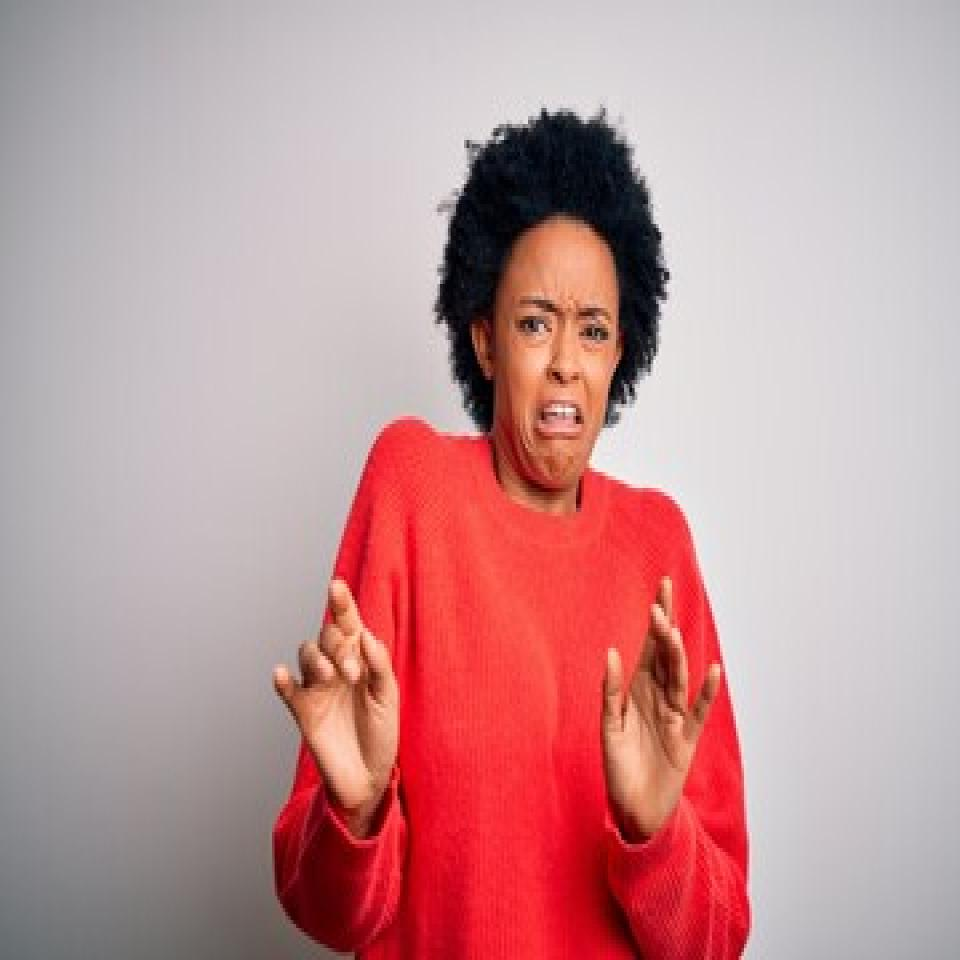Disgust: (499, 217, 618, 474)
